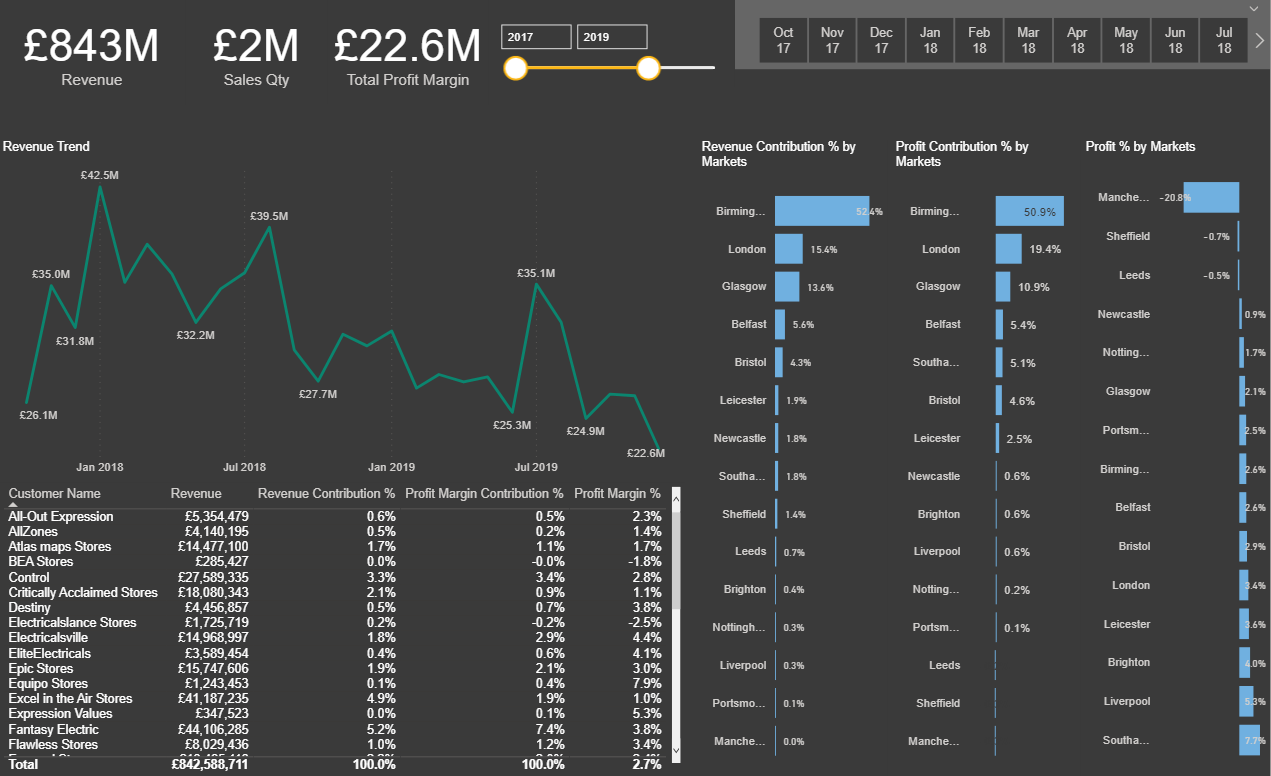

The dashboard page shown, as its layout file describes it:
{"tool":"powerbi","page":{"name":"Profits","canvas":[1340,820],"ordinal":1},"visuals":[{"type":"card","fields":{"Values":["base measures.Revenue"]},"box":[0,0,197.6,149.7],"z":0,"group":"g2"},{"type":"slicer","fields":{"Values":["sales date.year"]},"box":[516,0,260,75],"z":0},{"type":"card","fields":{"Values":["base measures.Sales Qty"]},"box":[198.1,0,148.8,149.7],"z":1000,"group":"g2"},{"type":"slicer","fields":{"Values":["sales date.cy_date"]},"box":[775.9,0,564.1,75.2],"z":1000},{"type":"barChart","title":"Profit % by Markets","fields":{"Category":["sales markets.markets_name"],"Y":["base measures.Profit Margin %"]},"box":[1140.8,149.6,199.8,670.2],"z":2000},{"type":"barChart","title":"Profit Contribution % by Markets","fields":{"Y":["base measures.Profit Margin Contribution %"],"Category":["sales markets.markets_name"]},"box":[941,149.6,199.8,670.2],"z":3000},{"type":"group","id":"g1","title":"Group 2","box":[0,149.6,723.4,670],"z":4000},{"type":"group","id":"g2","title":"Group 3","box":[0,0,516,149.7],"z":5000},{"type":"tableEx","title":"Top 5 Customers","fields":{"Values":["sales customers.custmer_name","base measures.Revenue","base measures.Revenue Contribution %","base measures.Profit Margin Contribution %","base measures.Profit Margin %"]},"box":[0,510.2,724.1,309.6],"z":5000,"group":"g1"},{"type":"barChart","title":"Revenue Contribution % by Markets","fields":{"Category":["sales markets.markets_name"],"Y":["base measures.Revenue Contribution %"]},"box":[736.3,149.6,200.8,670.2],"z":6000},{"type":"lineChart","title":"Revenue Trend","fields":{"Category":["sales date.cy_date"],"Y":["base measures.Revenue"]},"box":[0,149.6,724.1,360.6],"z":8000,"group":"g1"},{"type":"card","fields":{"Values":["base measures.Total Profit Margin"]},"box":[346.9,0,169.1,149.7],"z":9000,"group":"g2"}]}

Visuals, with their boxes in screenshot pixels (x1, y1, x2, y2), scaled from the page's 1340x820 canvas onto the 1271x776 screenshot:
card - base measures.Revenue: <bbox>0, 0, 187, 142</bbox>
slicer - sales date.year: <bbox>489, 0, 736, 71</bbox>
card - base measures.Sales Qty: <bbox>188, 0, 329, 142</bbox>
slicer - sales date.cy_date: <bbox>736, 0, 1270, 71</bbox>
"Profit % by Markets" barChart: <bbox>1082, 142, 1270, 775</bbox>
"Profit Contribution % by Markets" barChart: <bbox>893, 142, 1082, 775</bbox>
"Group 2" group: <bbox>0, 142, 686, 775</bbox>
"Group 3" group: <bbox>0, 0, 489, 142</bbox>
"Top 5 Customers" tableEx: <bbox>0, 483, 687, 775</bbox>
"Revenue Contribution % by Markets" barChart: <bbox>698, 142, 889, 775</bbox>
"Revenue Trend" lineChart: <bbox>0, 142, 687, 483</bbox>
card - base measures.Total Profit Margin: <bbox>329, 0, 489, 142</bbox>
